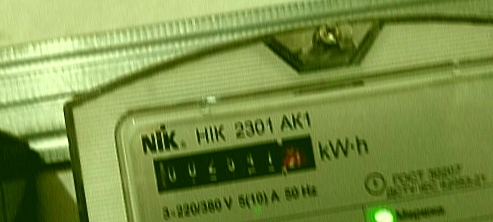0: (161, 160, 177, 183), (182, 155, 197, 178)
1: (260, 145, 274, 166)
2: (202, 153, 217, 175)
4: (241, 147, 256, 169)
5: (221, 150, 236, 173)
6: (284, 154, 297, 170)
screen: (139, 124, 327, 204)
